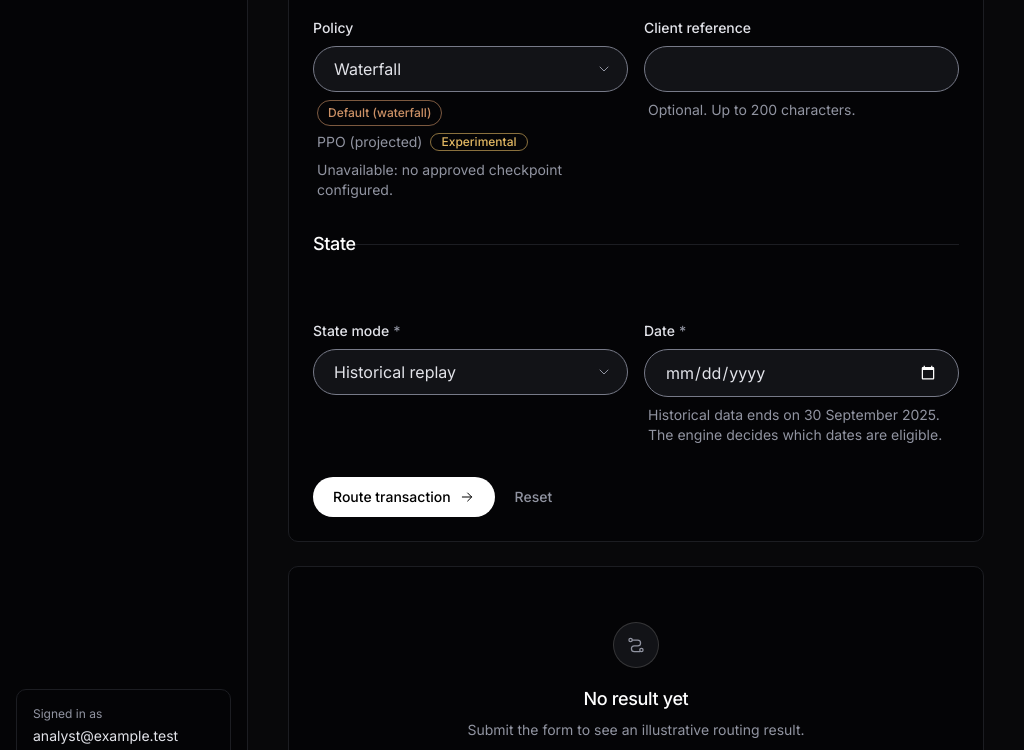
Test: NewTransactionPage at 1024px and above › shows the scenario field only in scenario mode, and the explicit fields only in explicit mode
Later steps or results of the test are not shown.
(page scrolled)
Expected: the dropdown labelled "Scenario" is not shown
Select "Scenario" in the dropdown labelled "State mode" at [470, 372], box [313, 349, 628, 395]
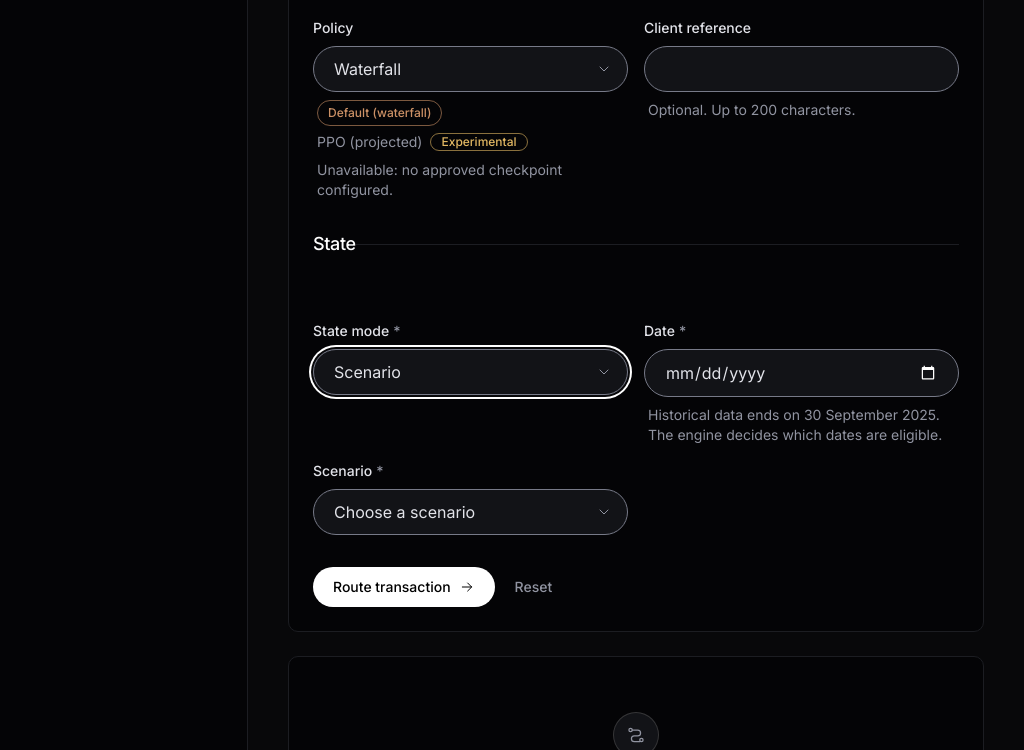
Expected: the dropdown labelled "Scenario" is shown, [313, 489, 628, 535]
Select "Explicit state" in the dropdown labelled "State mode" at [470, 372], box [313, 349, 628, 395]
(page scrolled)
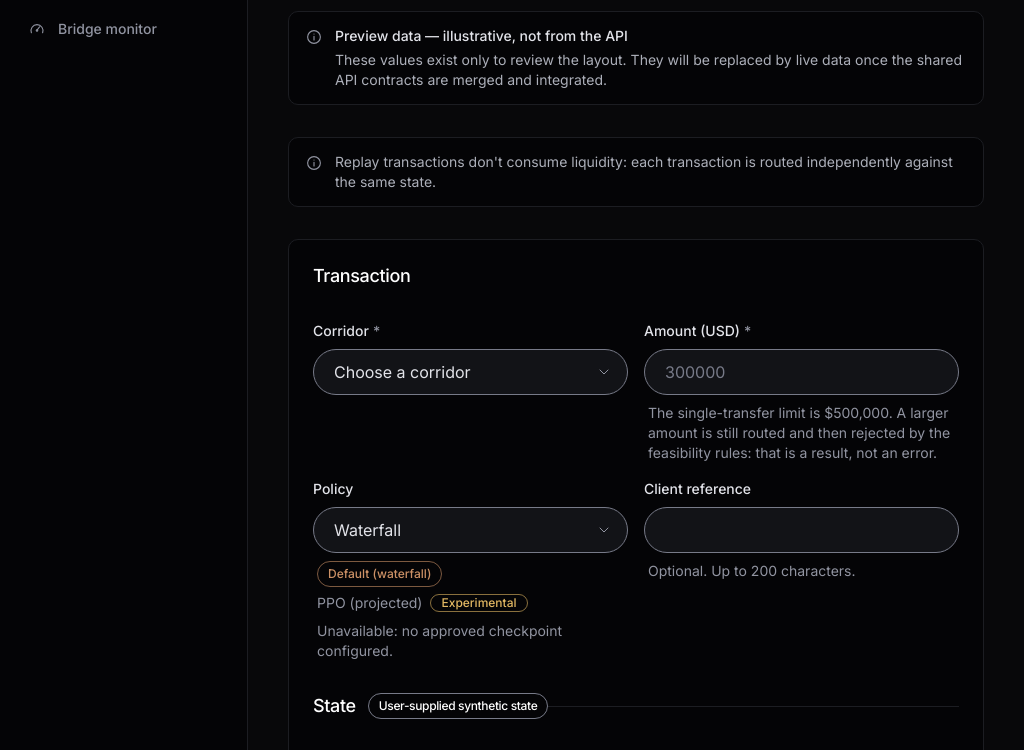
Expected: the dropdown labelled "Scenario" is not shown
Expected: the text "User-supplied synthetic state" is shown, [368, 693, 548, 719]
